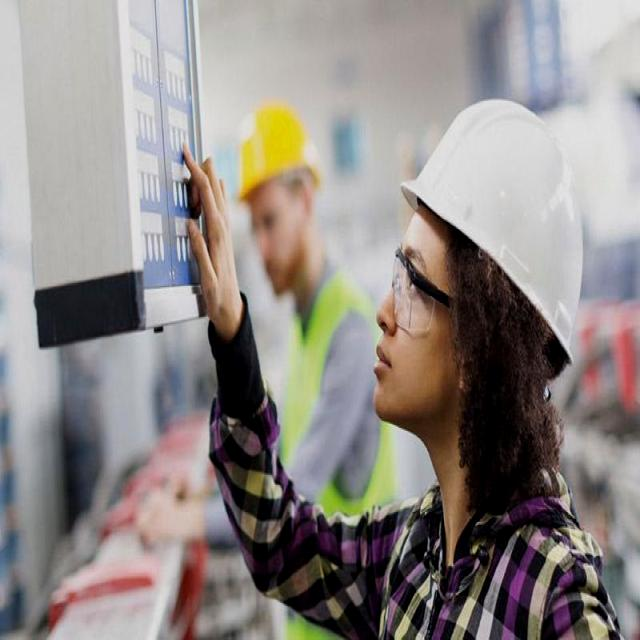face_nomask: (364, 226, 461, 442)
glasses: (388, 238, 442, 345)
hand_noglove: (178, 141, 234, 350)
head_helmet: (405, 95, 587, 289), (237, 101, 317, 192)
person: (363, 59, 624, 640), (225, 89, 372, 514)
vest: (278, 262, 369, 496)
